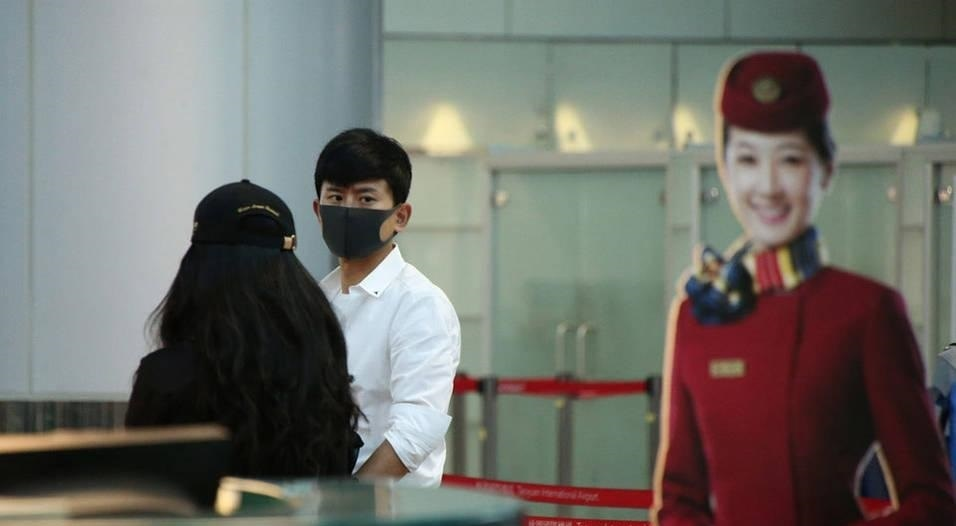Mask: (319, 175, 399, 254)
